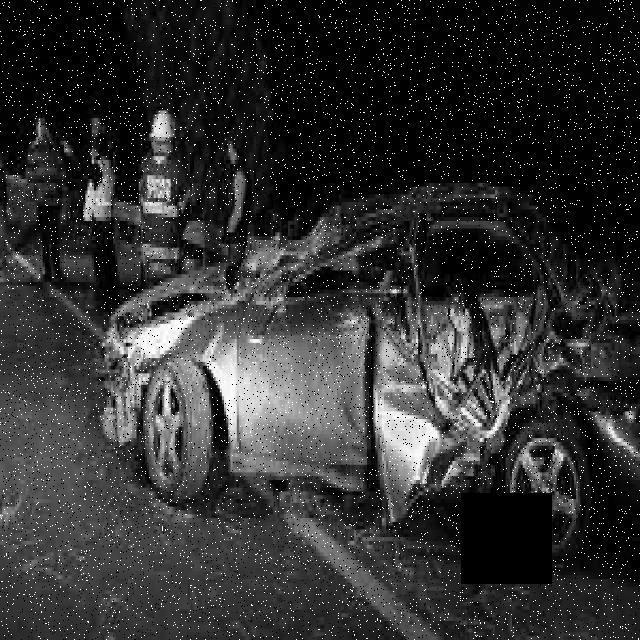vehicle: (80, 123, 614, 548)
